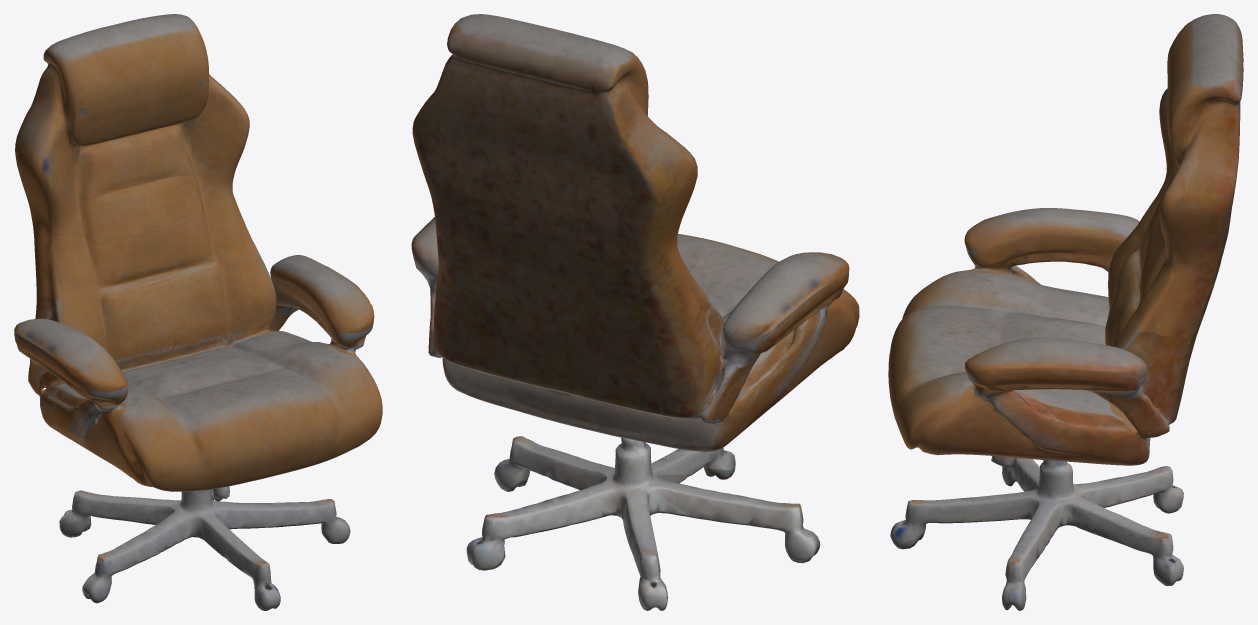
The model's file is meshy-realistic chair 2.glb.
The picture shows the model from 3 angles, left to right: view 1: azimuth 30°, elevation 25°; view 2: azimuth 150°, elevation 25°; view 3: azimuth 270°, elevation 25°; orthographic projection. The views are drawn at different scales.
Visible parts, largest first — view 1: file1; view 2: file1; view 3: file1.
Part boxes in pixels (x1,y1,x2,y2): file1: (14, 14, 382, 610); file1: (411, 14, 859, 610); file1: (888, 14, 1243, 610).
Size of the model in its own units: 1.33 by 2 by 1.28.
1 material, 1 textured.
